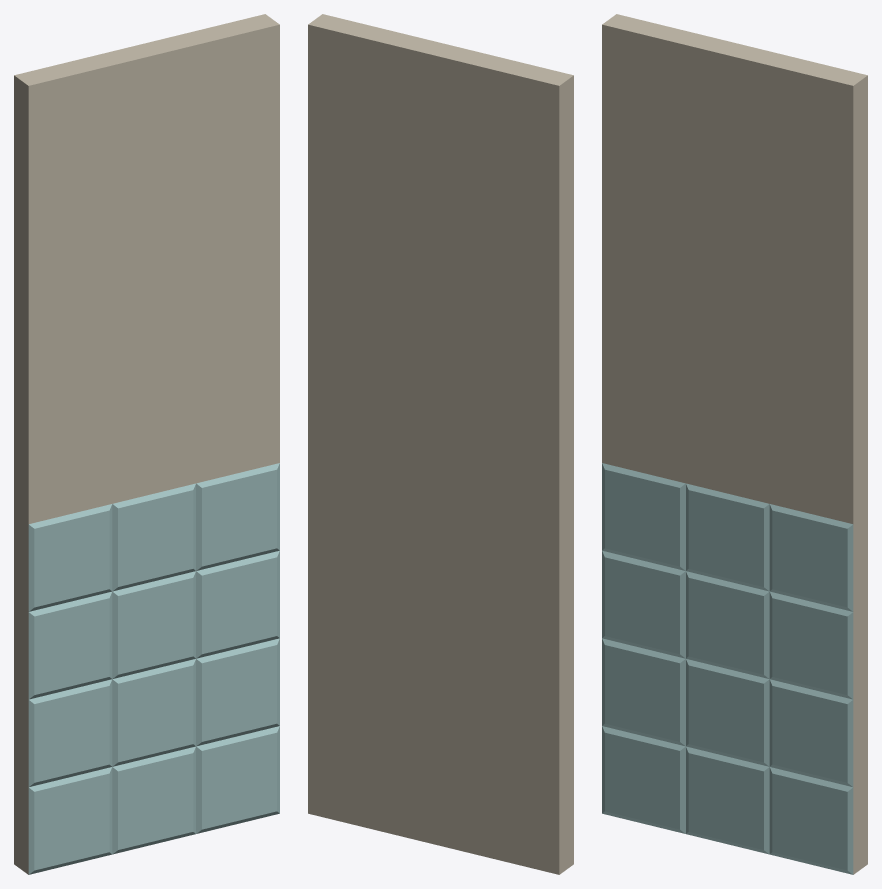
File: Mesh_WallHalfCeramic_E1.fbx
3 renders of one model, left to right at view 1: azimuth 30°, elevation 25°; view 2: azimuth 150°, elevation 25°; view 3: azimuth 330°, elevation 25°, orthographic.
Visible parts, largest first — view 1: Mesh_WallHalfCeramic_E1; view 2: Mesh_WallHalfCeramic_E1; view 3: Mesh_WallHalfCeramic_E1.
Boxes of the visible parts, x1=… form: Mesh_WallHalfCeramic_E1: x1=14, y1=14, x2=279, y2=874; Mesh_WallHalfCeramic_E1: x1=308, y1=14, x2=573, y2=874; Mesh_WallHalfCeramic_E1: x1=602, y1=14, x2=867, y2=874.
Size of the model in its own units: 1 by 3 by 0.1104.
